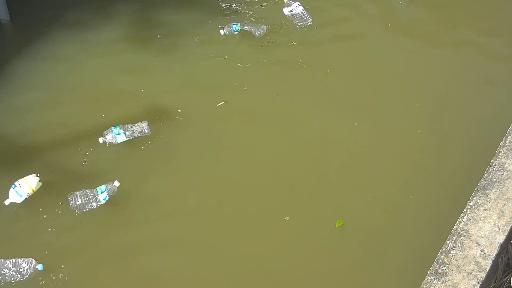leaf: (333, 218, 346, 230)
plastic: (0, 158, 53, 213), (64, 172, 129, 216), (96, 110, 154, 156), (0, 250, 58, 276), (219, 12, 274, 38), (275, 0, 317, 33)
